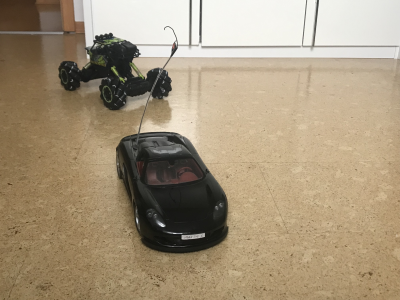remote control car: (55, 31, 173, 110)
